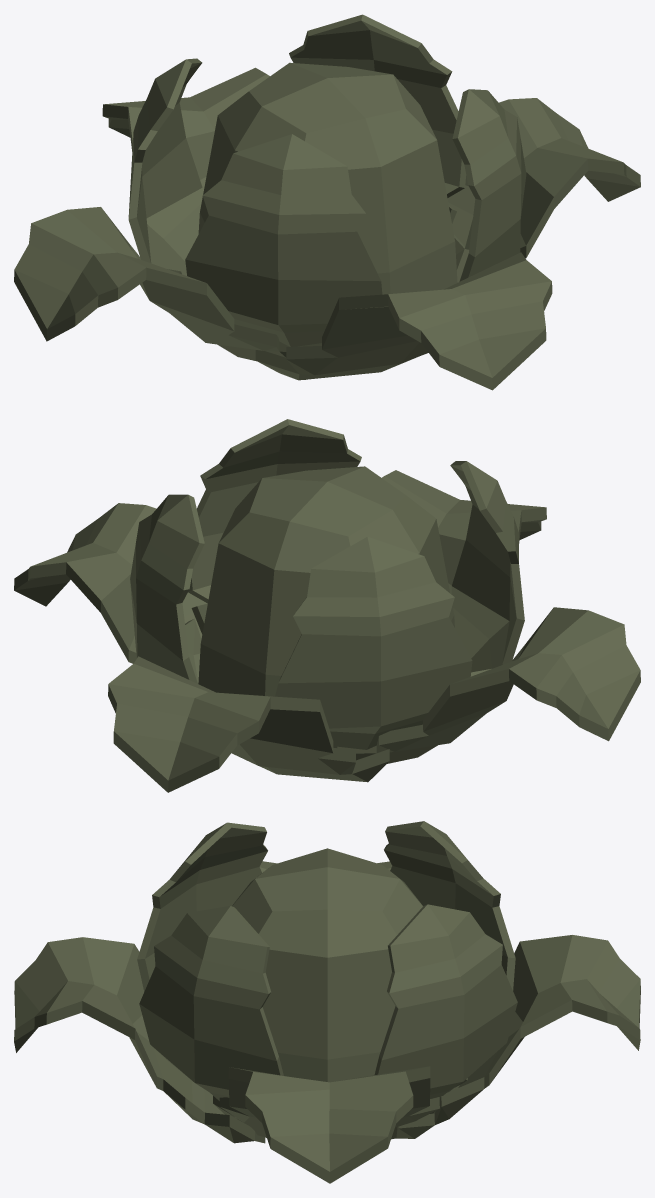
Rendered from lettuce_4.gltf.
The picture shows the model from 3 angles, top to bottom: view 1: azimuth 30°, elevation 25°; view 2: azimuth 150°, elevation 25°; view 3: azimuth 270°, elevation 25°; orthographic projection. The views are drawn at different scales.
Visible parts, largest first — view 1: lettuce_4; view 2: lettuce_4; view 3: lettuce_4.
Part boxes in pixels (x1=…): lettuce_4: x1=14, y1=14, x2=640, y2=390; lettuce_4: x1=14, y1=419, x2=640, y2=792; lettuce_4: x1=14, y1=821, x2=640, y2=1183.
Size of the model in its own units: 1.04 by 0.4742 by 1.04.
Materials: 1 (1 with a texture image).
